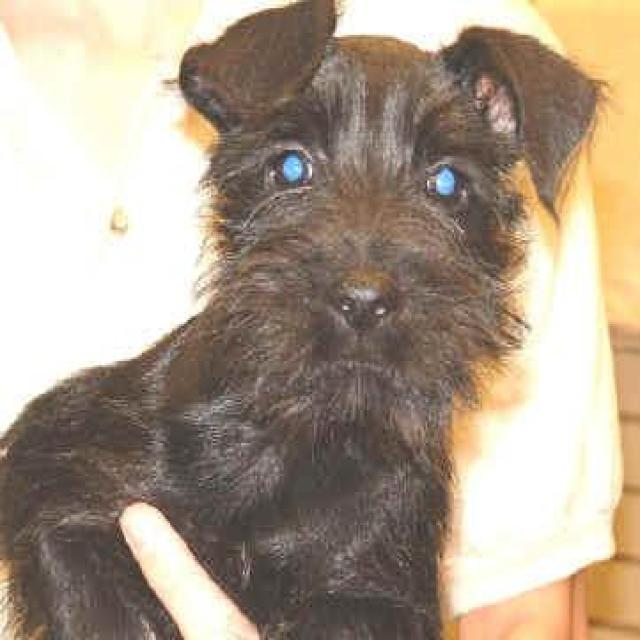standard_schnauzer: (0, 0, 628, 638)
